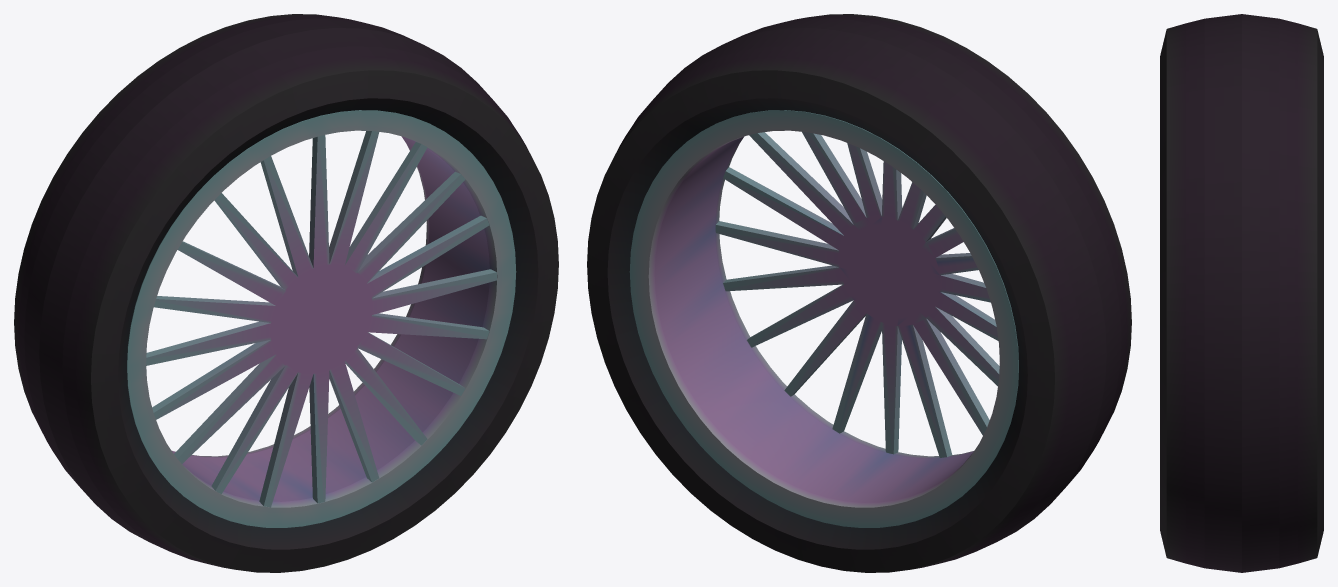
The picture shows the model from 3 angles, left to right: view 1: azimuth 30°, elevation 25°; view 2: azimuth 150°, elevation 25°; view 3: azimuth 270°, elevation 25°; orthographic projection. The views are drawn at different scales.
Parts seen in each view (by area): view 1: rubber, hub, barrel; view 2: rubber, barrel, hub; view 3: rubber.
Boxes of the visible parts, x1,y1,x2,y2 form: rubber: (14, 14, 558, 572); hub: (146, 131, 496, 507); barrel: (127, 110, 516, 527); rubber: (587, 14, 1131, 572); barrel: (629, 110, 1018, 527); hub: (715, 132, 999, 457); rubber: (1160, 14, 1323, 572).
Size of the model in its own units: 0.6 by 0.6 by 0.1755.
